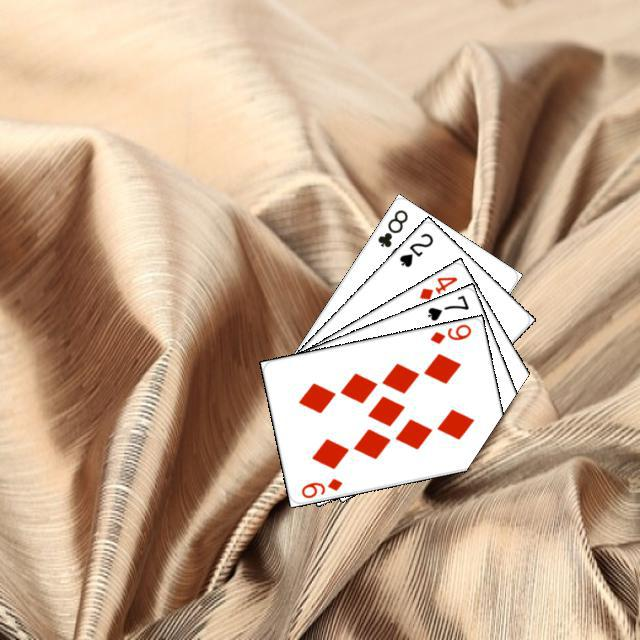2s: (394, 228, 435, 269)
4d: (414, 272, 459, 301)
7s: (422, 290, 470, 323)
8c: (373, 204, 410, 249)
9d: (296, 473, 344, 500), (425, 320, 473, 345)
